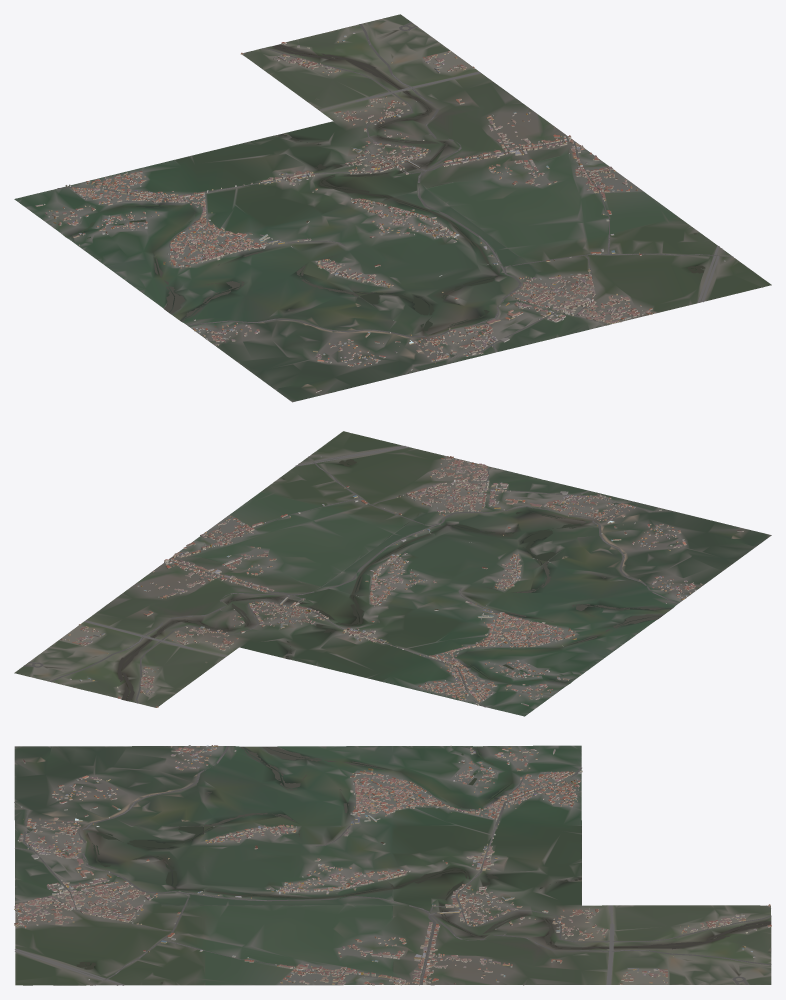
3 renders of one model, top to bottom at view 1: azimuth 30°, elevation 25°; view 2: azimuth 150°, elevation 25°; view 3: azimuth 270°, elevation 25°, orthographic. The views are drawn at different scales.
Visible parts, largest first — view 1: ground, buildings, water, roads; view 2: ground, buildings, water, roads; view 3: ground, buildings, water, roads.
Part boxes in pixels (x1,y1,x2,y2): ground: (14, 14, 771, 402); buildings: (35, 32, 725, 392); water: (72, 30, 705, 357); roads: (57, 22, 732, 374); ground: (14, 431, 771, 716); buildings: (60, 456, 743, 707); water: (74, 459, 672, 701); roads: (24, 446, 678, 707); ground: (14, 745, 771, 985); buildings: (14, 745, 771, 985); water: (27, 746, 770, 983); roads: (14, 746, 771, 985).
Bounding box in the file's own units: 4209 × 31.92 × 5623.
